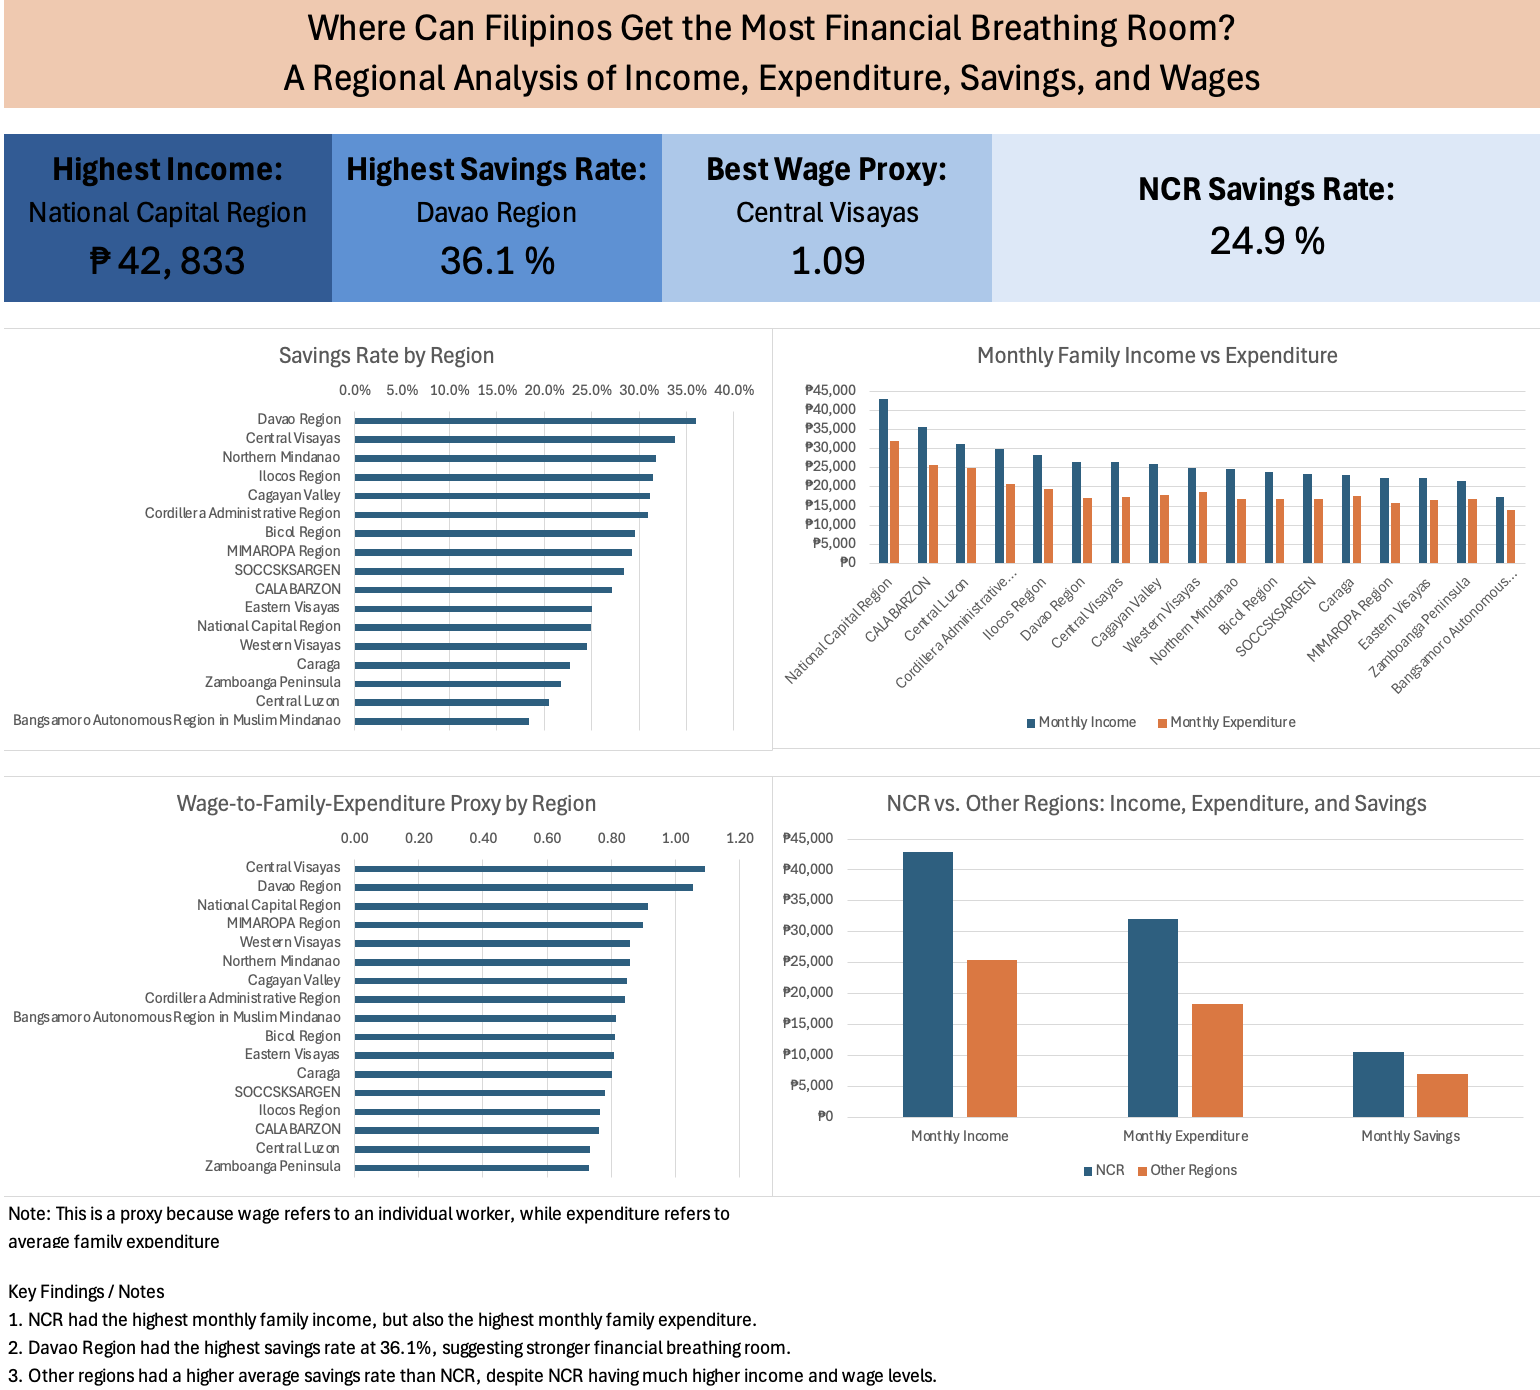

This screenshot's page, from the dashboard's own definition file:
{"tool":"tableau","page":{"name":"Dashboard 1","canvas":[1000,1000],"units":"permille","ordinal":0},"visuals":[{"type":"text","box":[0,0,1000.8,96.3]},{"type":"text","box":[7.9,108.3,274.8,120.3]},{"type":"text","box":[337.6,108.3,190.6,120.3]},{"type":"text","box":[595.7,108.3,152.5,120.3]},{"type":"text","box":[810.2,108.3,182.7,120.3]},{"type":"worksheet","title":"Savings Rate by Region","mark":"Bar","rows":["Calculation_5726336752984067"],"cols":["Calculation_5726336733024256"],"box":[7.9,246.7,476.6,324.9]},{"type":"worksheet","title":"Income vs Expenditure","mark":"Bar","cols":["Calculation_5726336752984067"],"box":[516.3,246.7,476.6,324.9]},{"type":"worksheet","title":"Wage Proxy by Region","mark":"Bar","rows":["Calculation_5726336752984067"],"cols":["wage_to_family_expenditure_ratio_proxy"],"box":[7.9,577.6,476.6,324.9]},{"type":"worksheet","title":"NCR vs Other Regions","mark":"Automatic","cols":["Calculation_5726336733184001"],"box":[516.3,577.6,476.6,324.9]},{"type":"text","box":[7.9,911,493.2,73.4]}]}

Visuals, with their boxes on the dashboard's canvas, which has no fixed pixel size, in thousandths of its width and height (x1, y1, x2, y2). These are canvas units, not pixel positions in the 1540x1390 screenshot, which may show the page scaled, cropped or inside an application window:
text: <bbox>0, 0, 1001, 96</bbox>
text: <bbox>8, 108, 283, 229</bbox>
text: <bbox>338, 108, 528, 229</bbox>
text: <bbox>596, 108, 748, 229</bbox>
text: <bbox>810, 108, 993, 229</bbox>
"Savings Rate by Region" worksheet (Bar marks): <bbox>8, 247, 484, 572</bbox>
"Income vs Expenditure" worksheet (Bar marks): <bbox>516, 247, 993, 572</bbox>
"Wage Proxy by Region" worksheet (Bar marks): <bbox>8, 578, 484, 902</bbox>
"NCR vs Other Regions" worksheet: <bbox>516, 578, 993, 902</bbox>
text: <bbox>8, 911, 501, 984</bbox>
